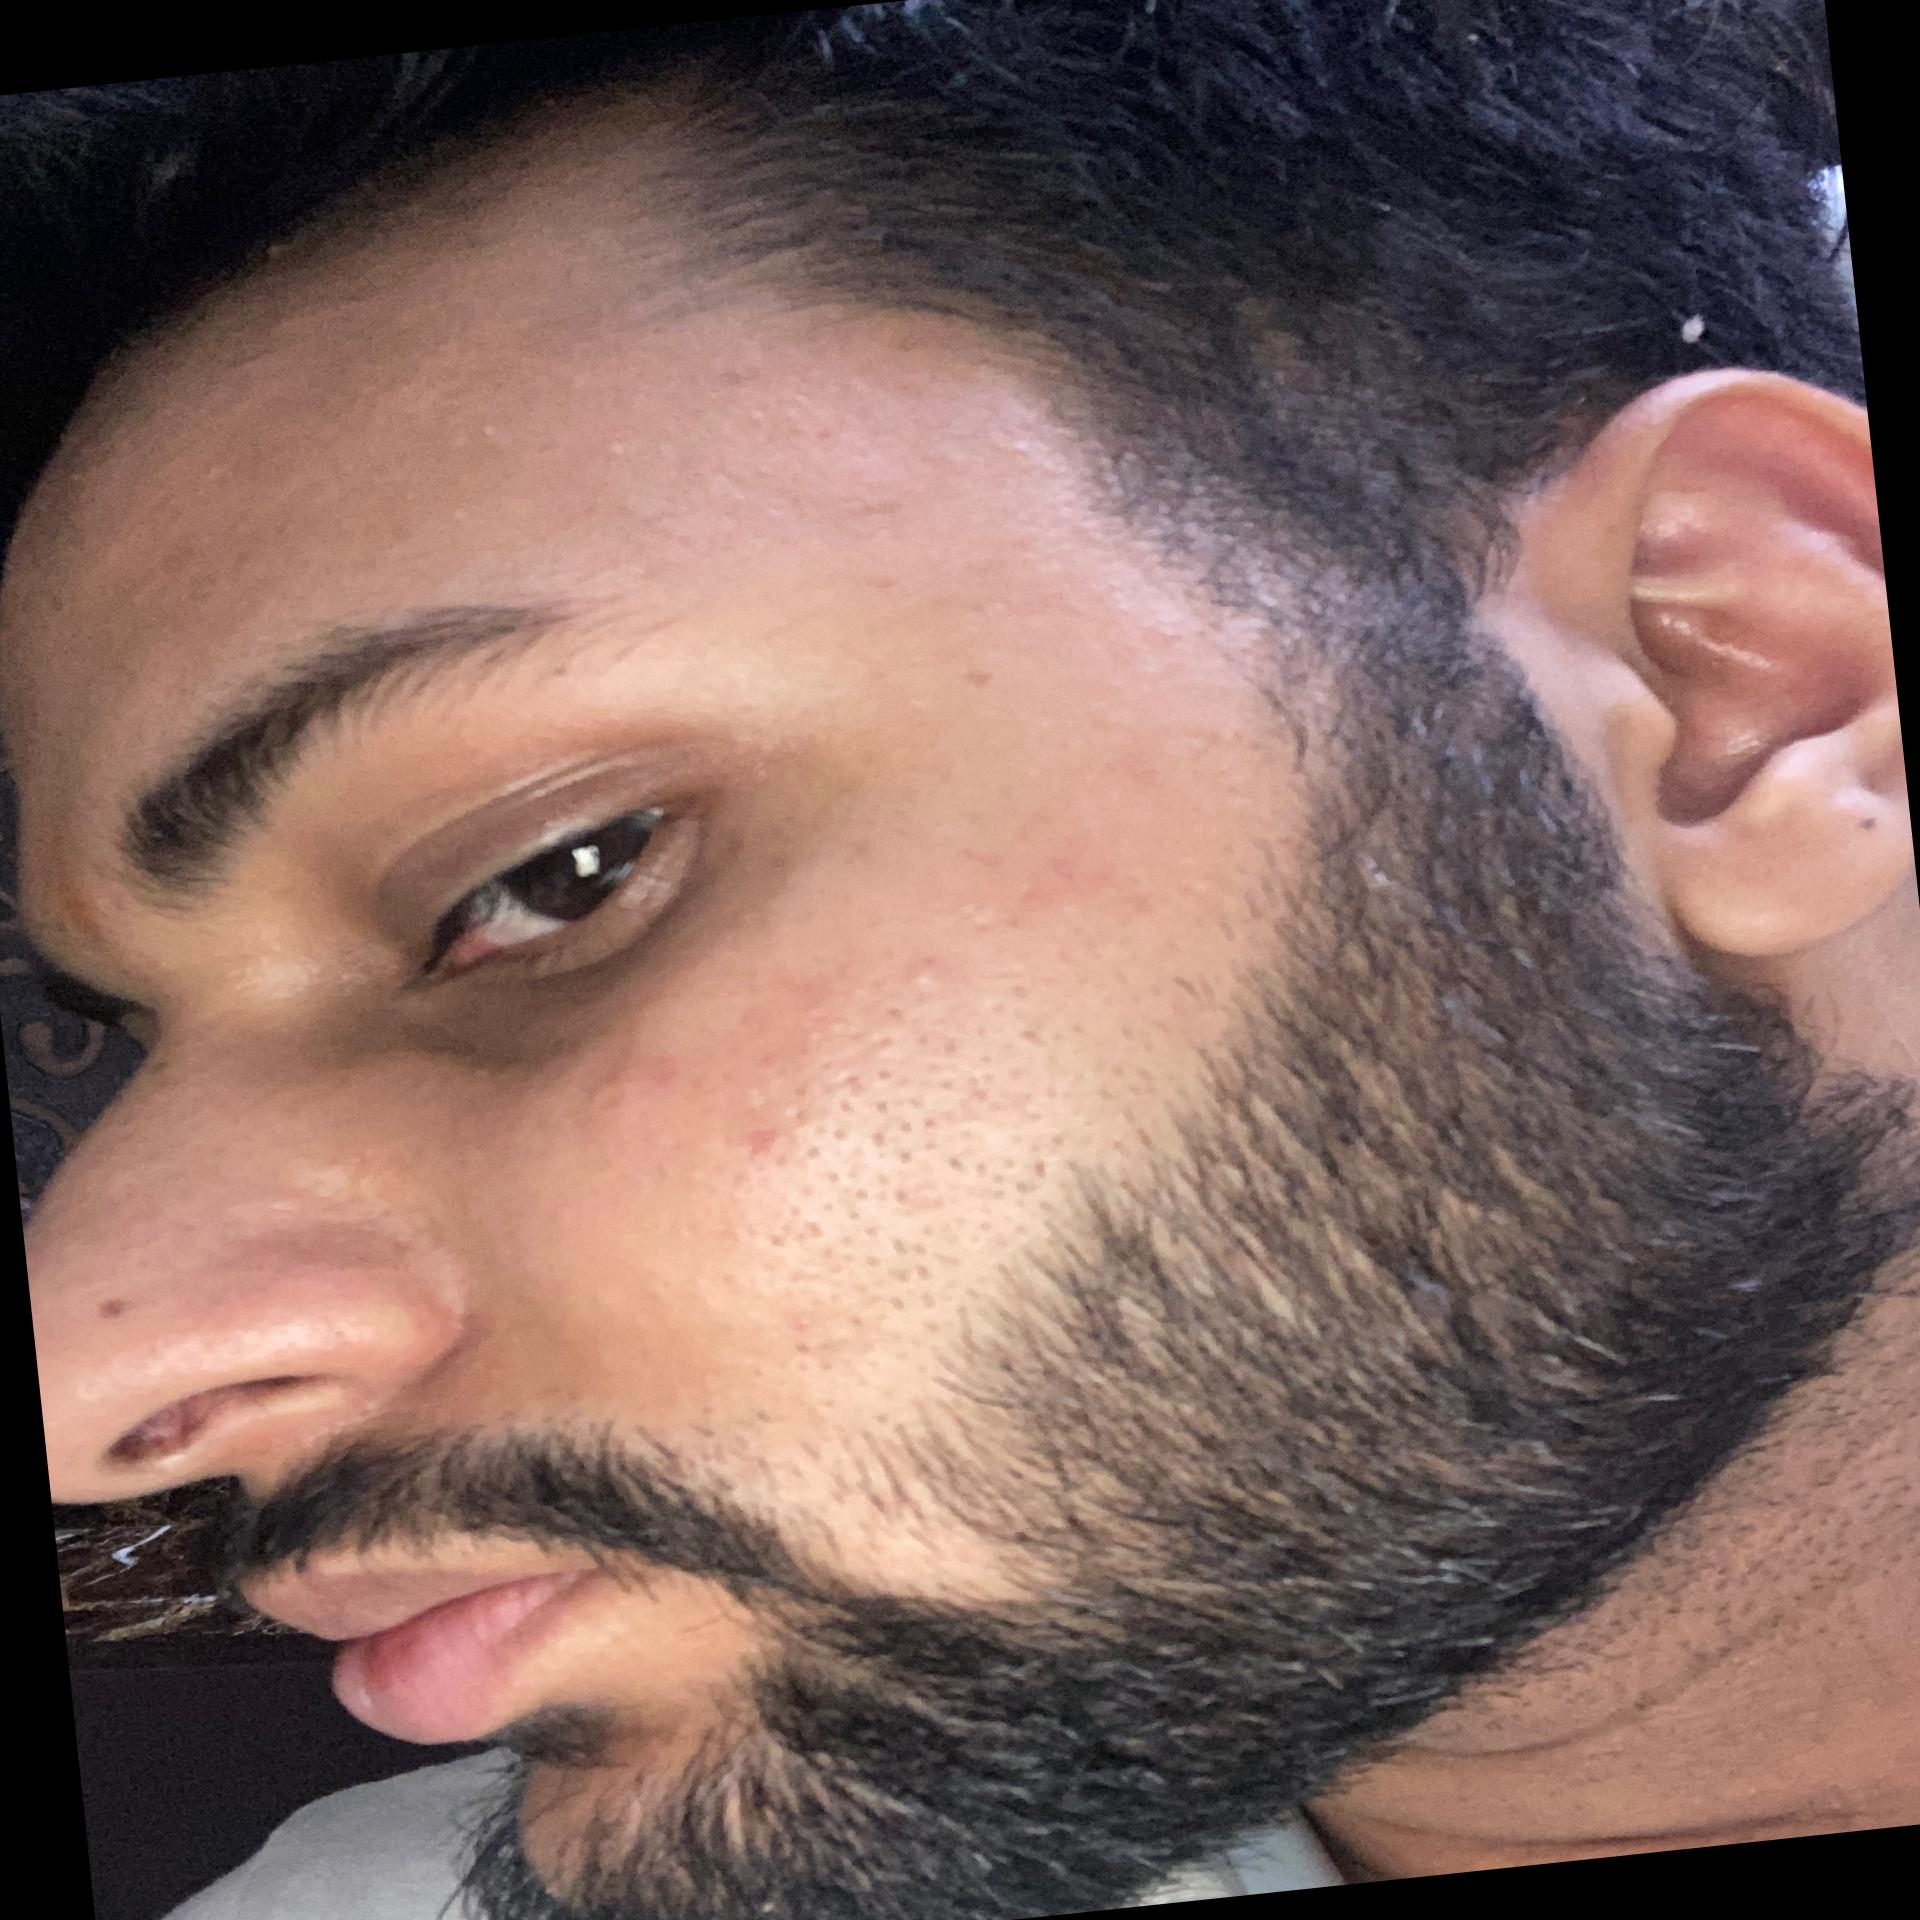Acne: (985, 844, 1108, 909), (584, 1041, 679, 1099), (717, 1115, 795, 1173), (893, 946, 951, 992), (598, 429, 649, 473)
Englarged Pores: (721, 981, 1162, 1370)
